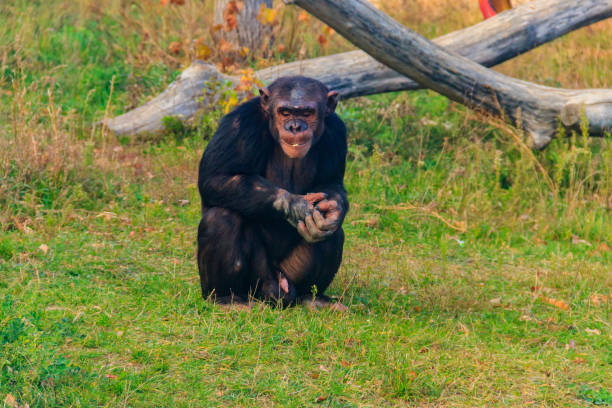chimpanzee: (240, 67, 343, 174)
